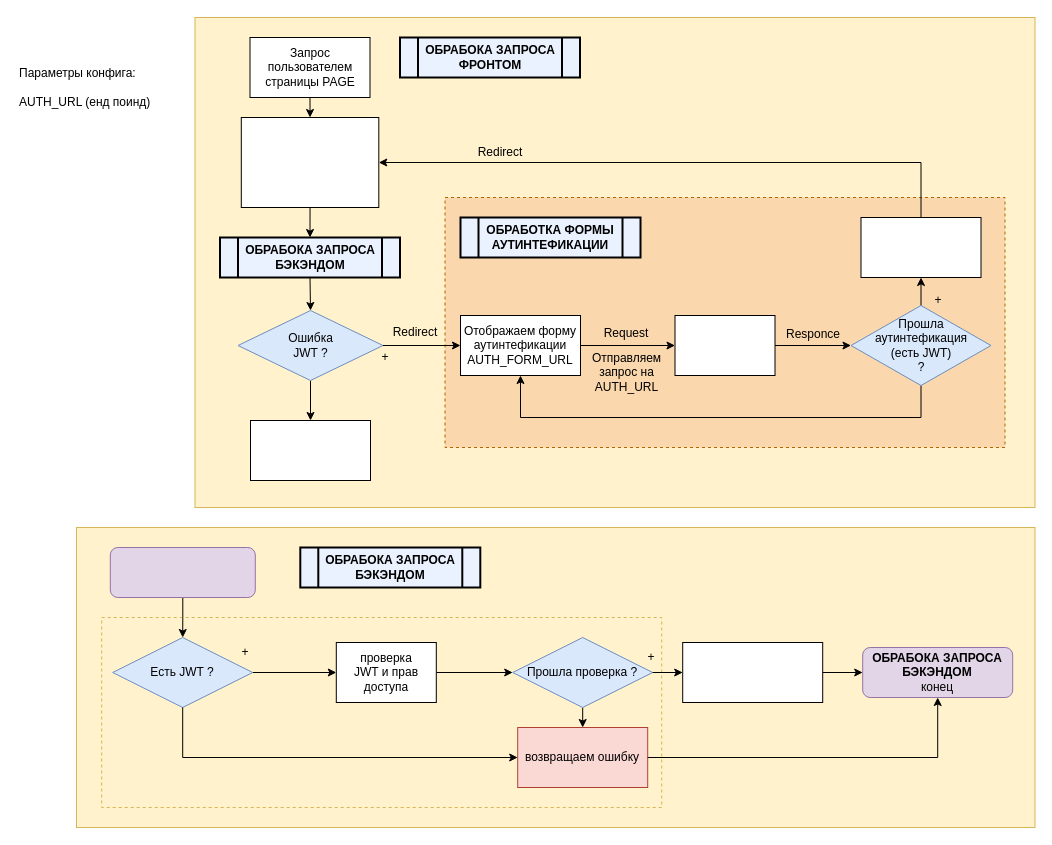
Some shapes in this 1052 by 845 pixel diagram are drawn without their labels. Here are the shapes that lost their labels. From the top down, the centre of each, then its label:
At pixel 309 162: "формирование и отправка запроса (в request headers подставляем JWT)".
At pixel 920 247: "Записываем JWT в local storage".
At pixel 724 345: "AUTH_URL проверка логина и пароля".
At pixel 310 450: "Вывод страцицы PAGE".
At pixel 182 572: "ОБРАБОКА ЗАПРОСА БЭКЭНДОМ начало".
At pixel 752 672: "обработка запроса ... возвращаем результат".
